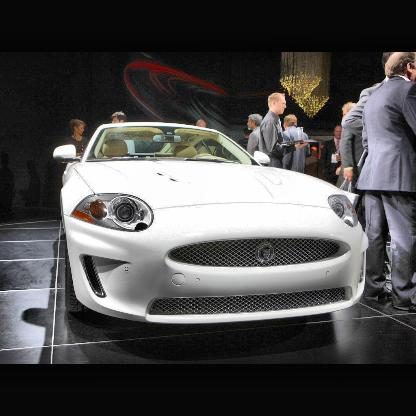Jaguar XK XKR 2012: (54, 122, 371, 327)
